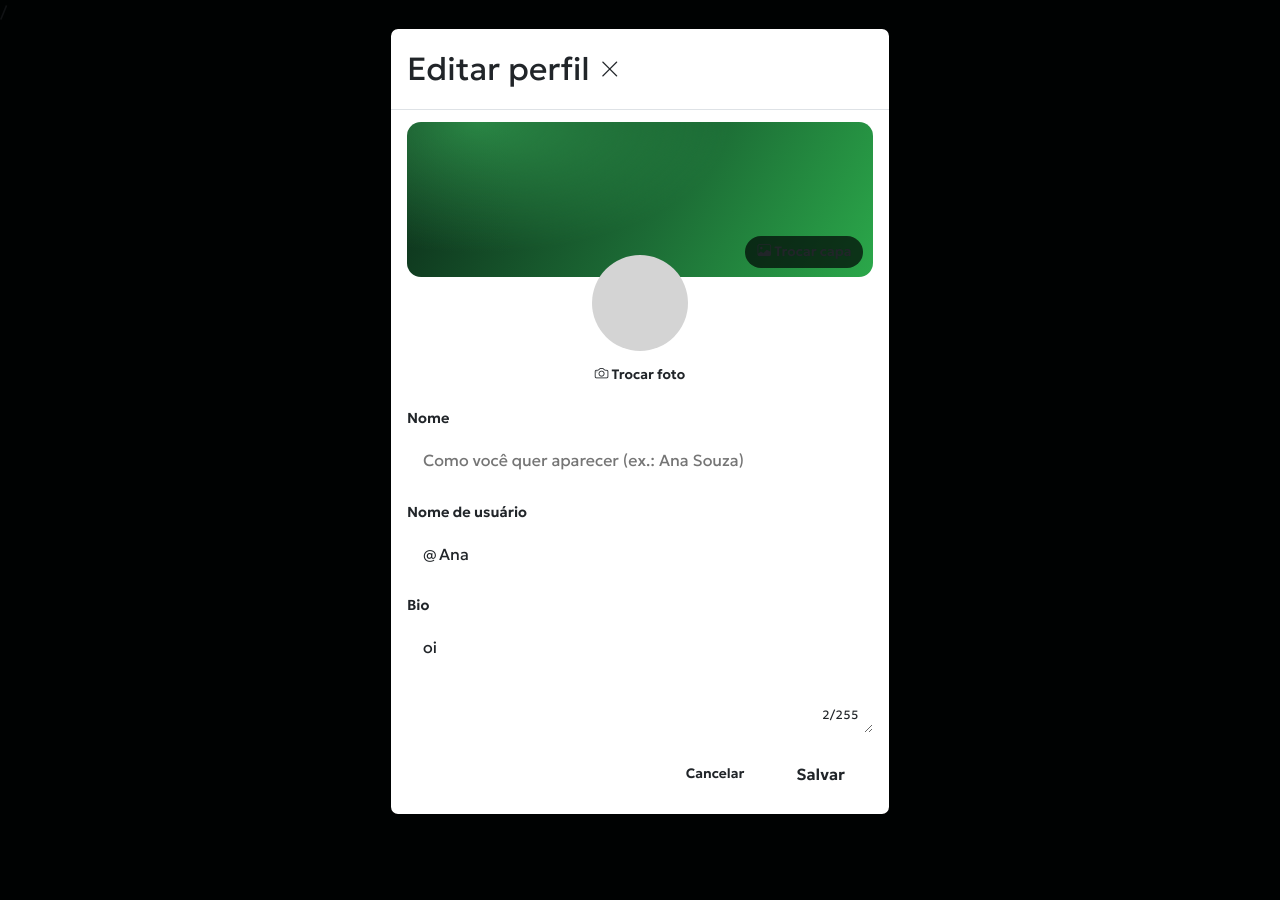
Test: EditProfileModal › mostra "Enviando foto…" enquanto a foto sobe
Earlier steps of the test are not shown.
Click the button "Salvar" at (821, 774), box [768,750,873,798]
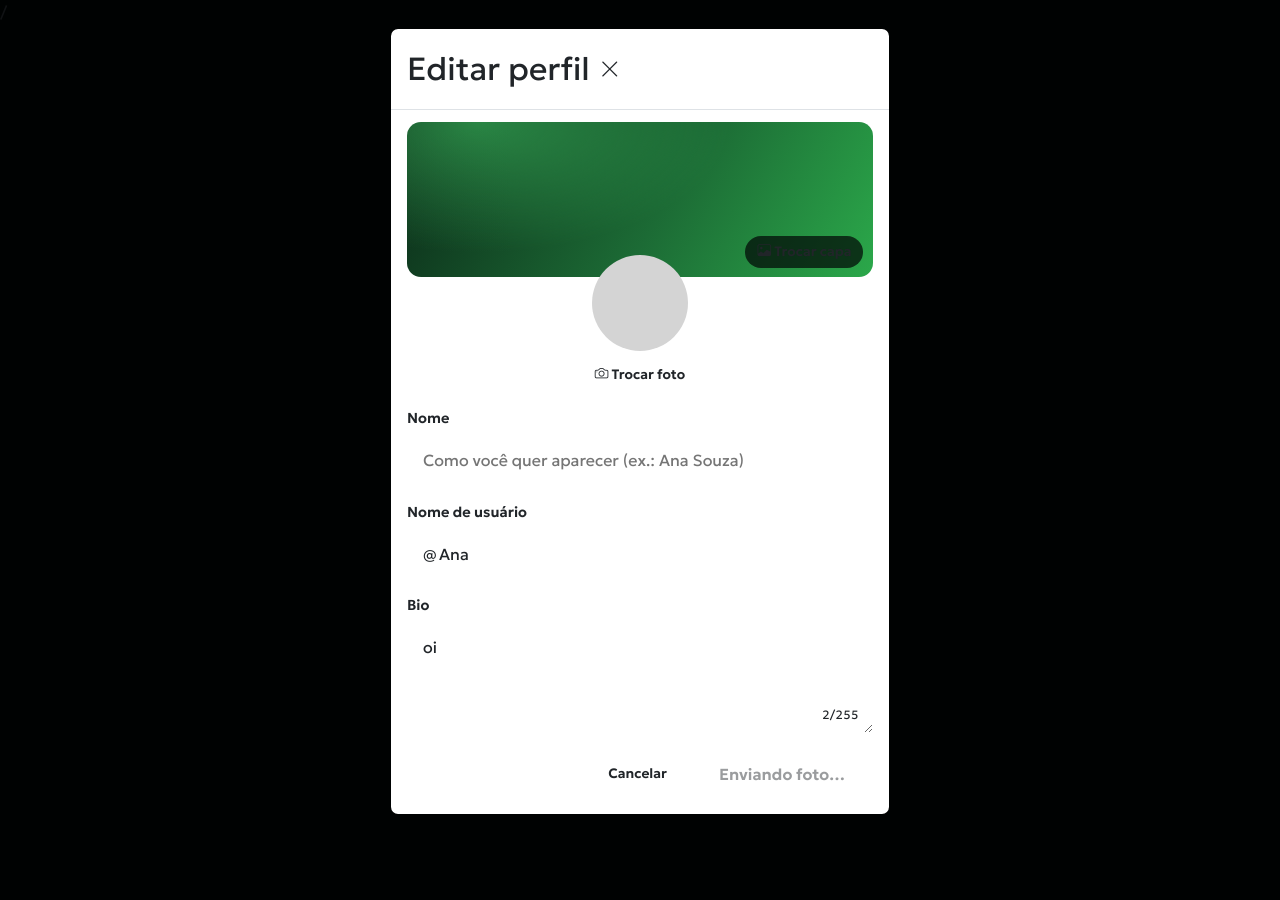
Result: the button "Enviando foto…" is disabled at [691,750,873,798]
